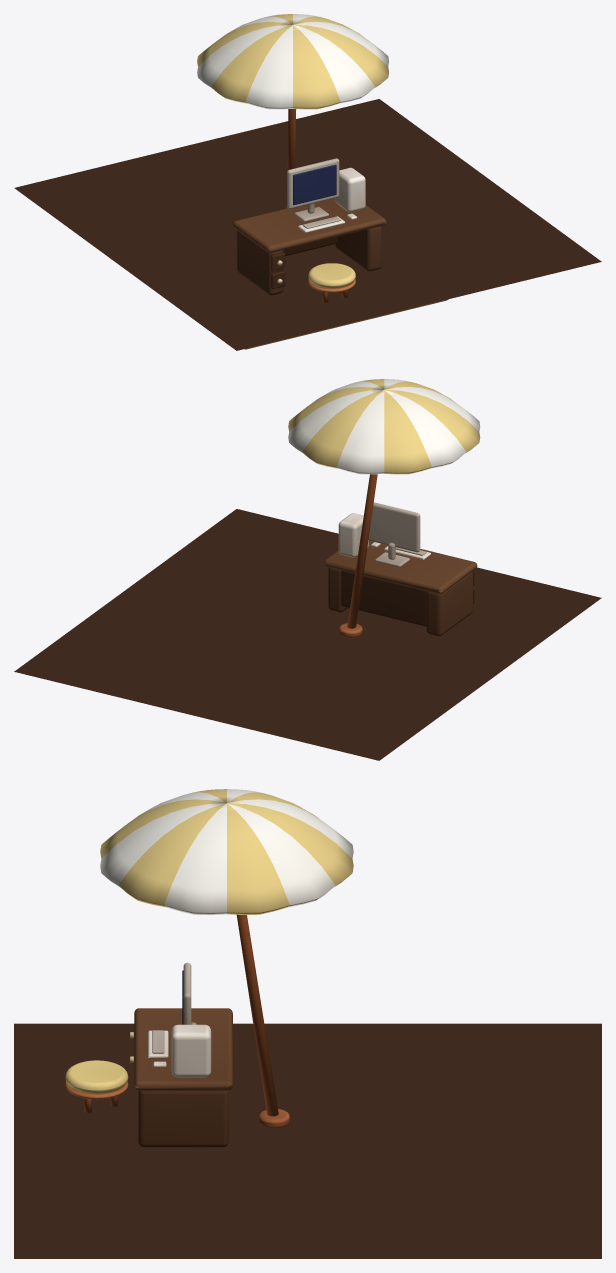
Rendered from unit_parasol_butter.glb.
The picture shows the model from 3 angles, top to bottom: view 1: azimuth 30°, elevation 25°; view 2: azimuth 150°, elevation 25°; view 3: azimuth 270°, elevation 25°; orthographic projection. The views are drawn at different scales.
Parts seen in each view (by area): view 1: baked_shadow, canopy, desk_top, desk_sideL, desk_sideR, mon_screen, tower, cushion, mon_frame, pole; view 2: baked_shadow, canopy, desk_top, desk_back, mon_frame, desk_sideL, pole, tower, desk_sideR; view 3: baked_shadow, canopy, desk_top, desk_sideR, pole, tower, cushion.
Boxes of the visible parts, <box> form: baked_shadow: <box>14,99,601,350</box>; canopy: <box>197,14,388,109</box>; desk_top: <box>233,198,386,252</box>; desk_sideL: <box>237,230,283,295</box>; desk_sideR: <box>335,226,381,271</box>; mon_screen: <box>293,164,336,205</box>; tower: <box>335,167,365,212</box>; cushion: <box>308,263,355,288</box>; mon_frame: <box>287,158,339,209</box>; pole: <box>286,109,296,208</box>; baked_shadow: <box>14,509,601,760</box>; canopy: <box>288,379,480,474</box>; desk_top: <box>324,540,477,593</box>; desk_back: <box>341,570,427,626</box>; mon_frame: <box>368,502,420,552</box>; desk_sideL: <box>426,571,472,636</box>; pole: <box>347,474,377,628</box>; tower: <box>338,513,368,557</box>; desk_sideR: <box>328,567,347,612</box>; baked_shadow: <box>14,1023,601,1258</box>; canopy: <box>100,789,353,914</box>; desk_top: <box>134,1008,232,1090</box>; desk_sideR: <box>138,1090,228,1147</box>; pole: <box>236,914,278,1116</box>; tower: <box>171,1024,211,1077</box>; cushion: <box>65,1060,128,1093</box>.
Bounding box in the file's own units: 7.06 × 4.55 × 7.46.
Materials: 15 (2 with a texture image).
